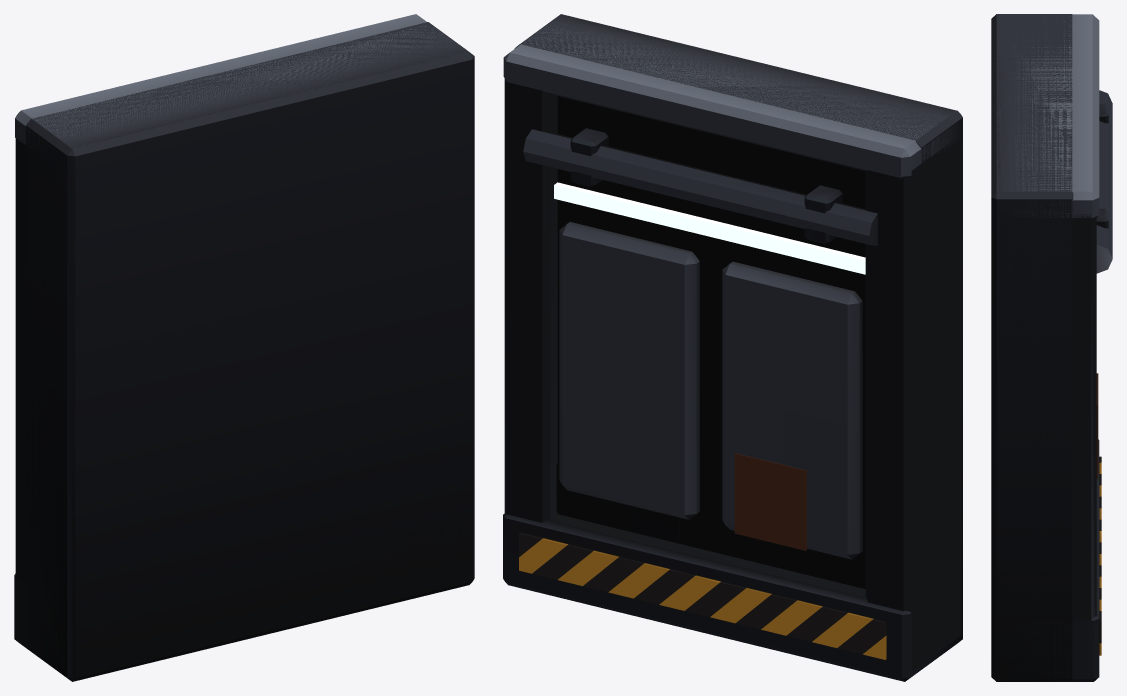
File: Wall.glb
3 views of the same model, side by side, from view 1: azimuth 30°, elevation 25°; view 2: azimuth 150°, elevation 25°; view 3: azimuth 270°, elevation 25° (orthographic). The views are drawn at different scales.
Parts seen in each view (by area): view 1: Body; view 2: Body, Strip_Glow; view 3: Body.
Boxes of the visible parts, box(x1,y1,x2,y2) form: Body: box(14, 14, 474, 681); Body: box(503, 14, 962, 681); Strip_Glow: box(554, 182, 865, 274); Body: box(991, 14, 1112, 681).
Bounding box in the file's own units: 8 × 10 × 2.25.
